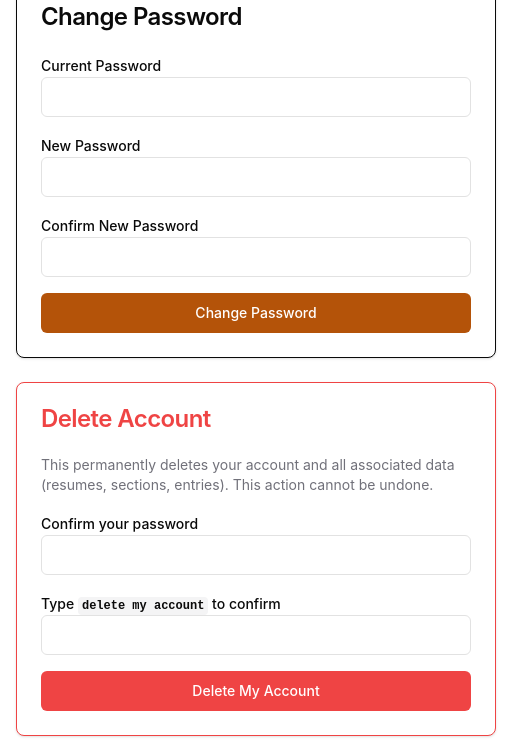
Scenario: AccountView › Delete Account › shows error when confirmation text does not match
The width and height of the screenshot is (513, 742).
(page scrolled)
Type "password" into the password field with id "delete-password" at {"x": 256, "y": 555}, box [41,535,471,575]
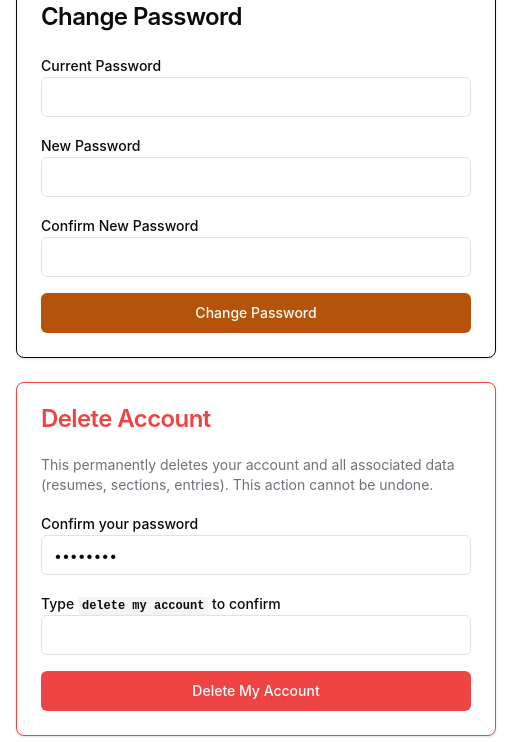
Type "wrong text" into the field with id "delete-confirm" at {"x": 256, "y": 635}, box [41,615,471,655]
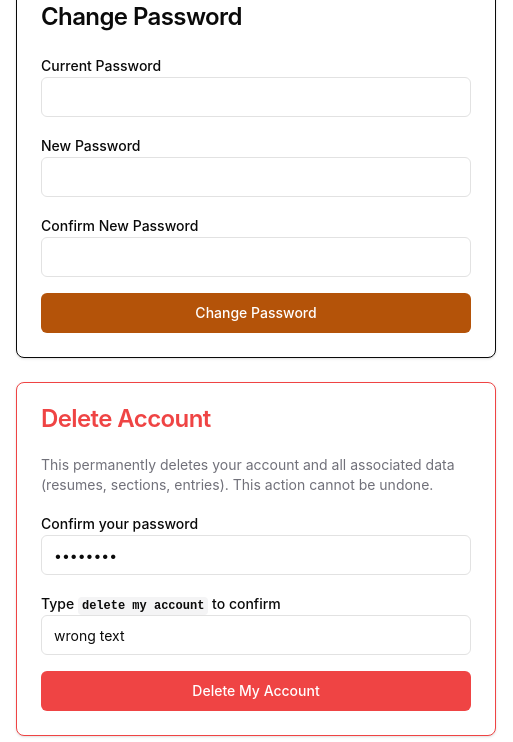
// The delete form is the second form on the page
Submit the form that starts with "Confirm your password", box [41,511,471,711]
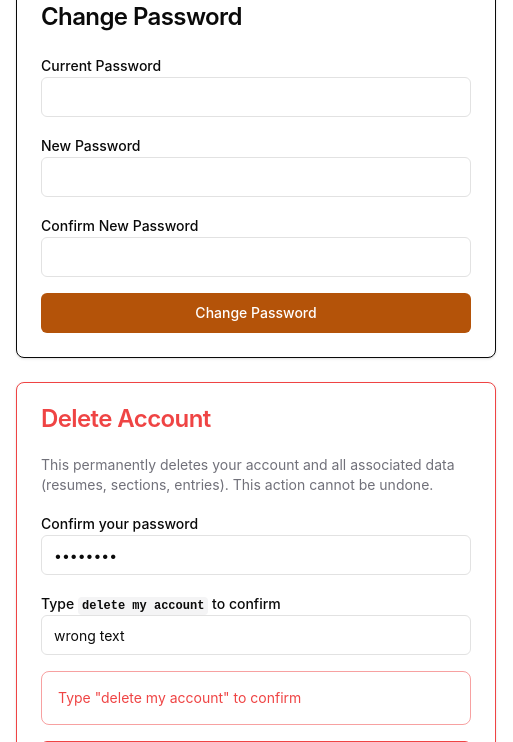
Check: the message "Type \"delete my account\" to confirm" reads "Type \"delete my account\" to confirm", box [58,689,301,706]
